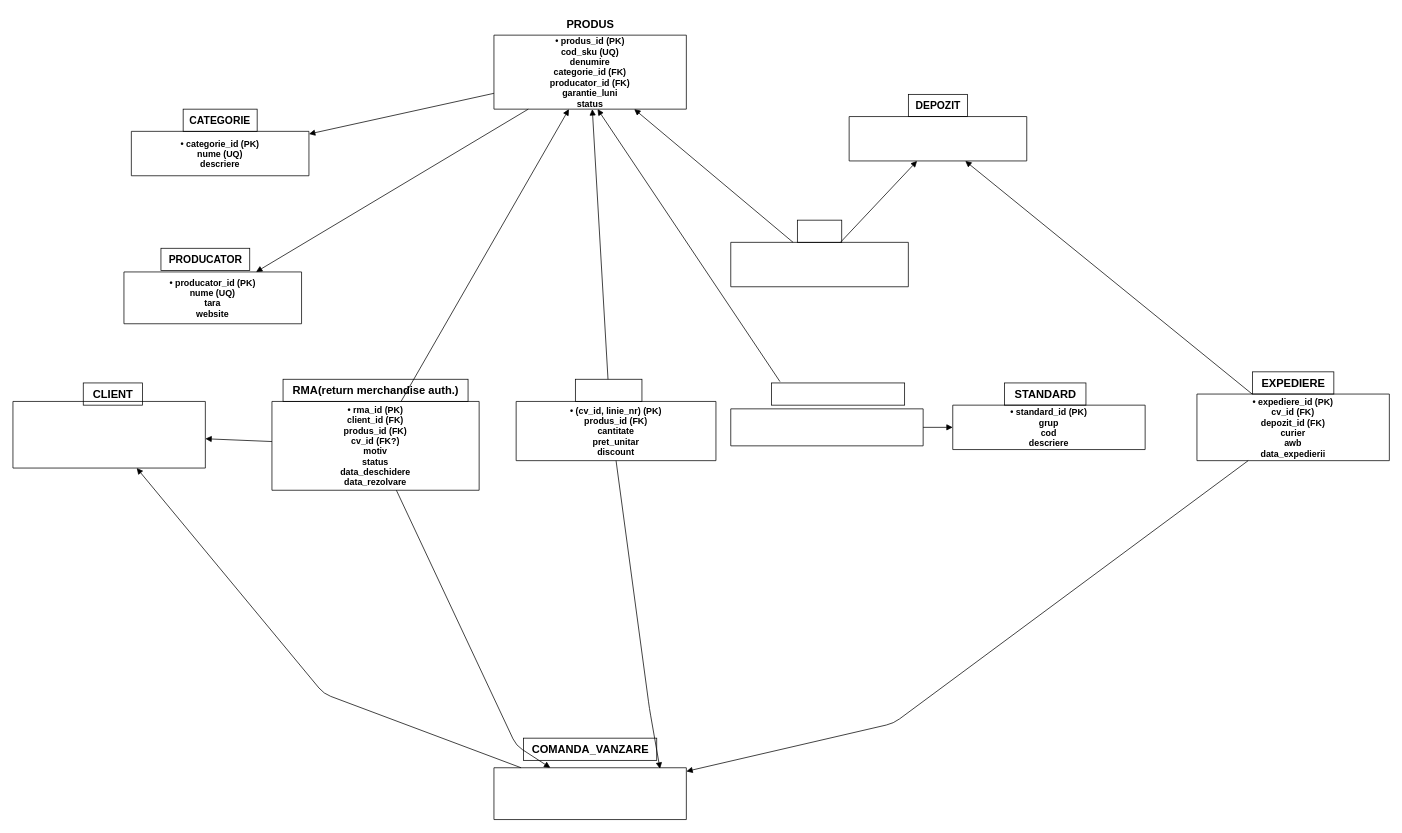
The diagram is 1402 pixels wide and 833 high, and some of its shapes have lost their labels. Here are the shapes that lost their labels. From the top down, the box of each, then its label:
(848, 116, 1027, 161): • depozit_id (PK) nume oras tara
(797, 219, 842, 242): STOC
(730, 242, 908, 287): • (produs_id, depozit_id) (PK) cantitate prag_minim
(575, 379, 642, 401): CV_LINIE
(771, 382, 905, 405): PRODUS_STANDARD
(12, 401, 205, 468): • client_id (PK) tip (B2B/B2C) nume cod_fiscal (UQ) tara categoria_pret
(730, 408, 923, 446): • (produs_id, standard_id) (PK) produs_id (FK) standard_id (FK)
(493, 767, 686, 820): • cv_id (PK) client_id (FK) data_creare status metoda_livrare
